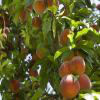Peach leaf: (74, 27, 93, 45), (53, 47, 69, 61), (79, 49, 92, 65), (39, 74, 50, 92), (78, 45, 93, 57), (76, 40, 95, 49), (31, 58, 45, 70), (74, 8, 95, 15), (60, 50, 73, 61), (47, 55, 58, 67), (52, 19, 56, 39), (55, 9, 65, 16), (52, 4, 57, 16)
